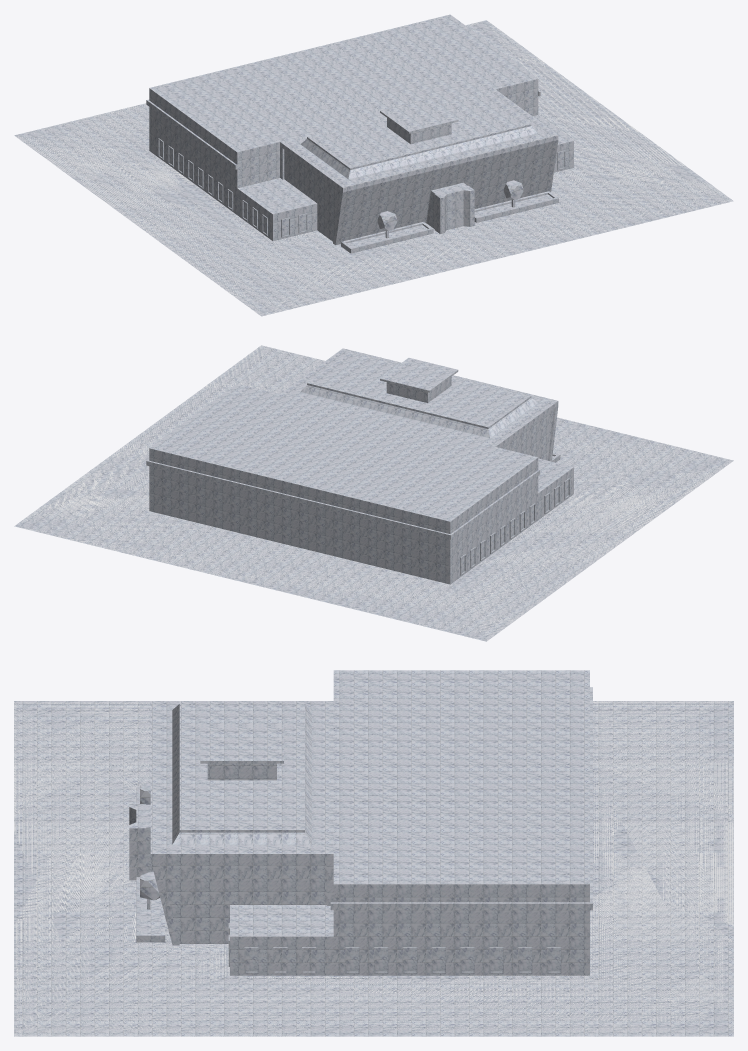
File: FINAL_showroom.obj
3 renders of one model, top to bottom at view 1: azimuth 30°, elevation 25°; view 2: azimuth 150°, elevation 25°; view 3: azimuth 270°, elevation 25°, orthographic. The views are drawn at different scales.
Visible parts, largest first — view 1: Mesh85 Model, Mesh76 kvetinac2 Model, Mesh73 kvetinac1 Model; view 2: Mesh85 Model; view 3: Mesh85 Model, Mesh73 kvetinac1 Model.
Part boxes in pixels (left/top/right/bottom): Mesh85 Model: left=14, top=14, right=733, bottom=316; Mesh76 kvetinac2 Model: left=341, top=222, right=433, bottom=253; Mesh73 kvetinac1 Model: left=474, top=191, right=558, bottom=222; Mesh85 Model: left=14, top=345, right=733, bottom=641; Mesh85 Model: left=14, top=670, right=733, bottom=1036; Mesh73 kvetinac1 Model: left=136, top=877, right=165, bottom=942.
Bounding box in the file's own units: 55.15 × 9.6 × 50.
2 materials, 1 textured.
